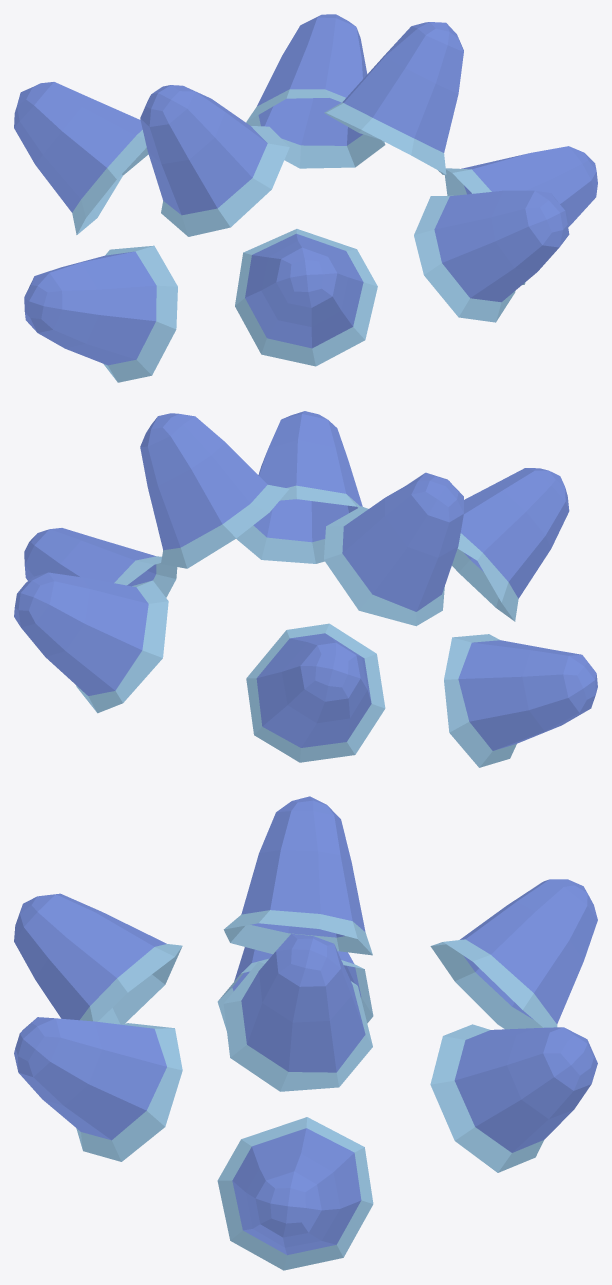
The model's file is horns_02.glb.
3 views of the same model, one above another, from view 1: azimuth 30°, elevation 25°; view 2: azimuth 150°, elevation 25°; view 3: azimuth 270°, elevation 25° (orthographic). The views are drawn at different scales.
Parts seen in each view (by area): view 1: top.018; view 2: top.018; view 3: top.018.
Part boxes in pixels (<box>): top.018: <box>14,14,597,382</box>; top.018: <box>14,411,597,767</box>; top.018: <box>14,796,597,1270</box>.
Bounding box in the file's own units: 1.7 × 0.7807 × 1.39.
